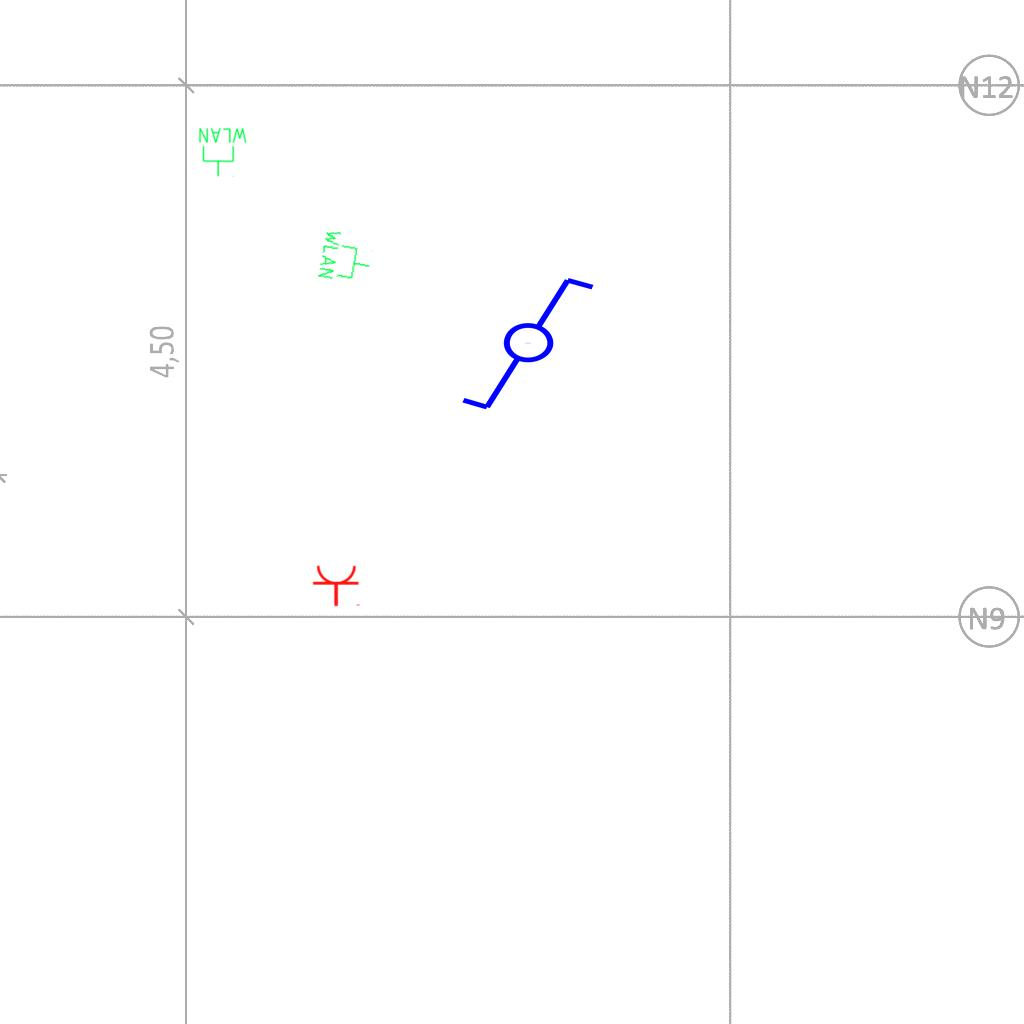Schukosteckdose_einfach: (312, 564, 362, 607)
WLAN: (315, 226, 377, 288), (197, 126, 249, 178)
Wechselschalter: (458, 273, 615, 417)
